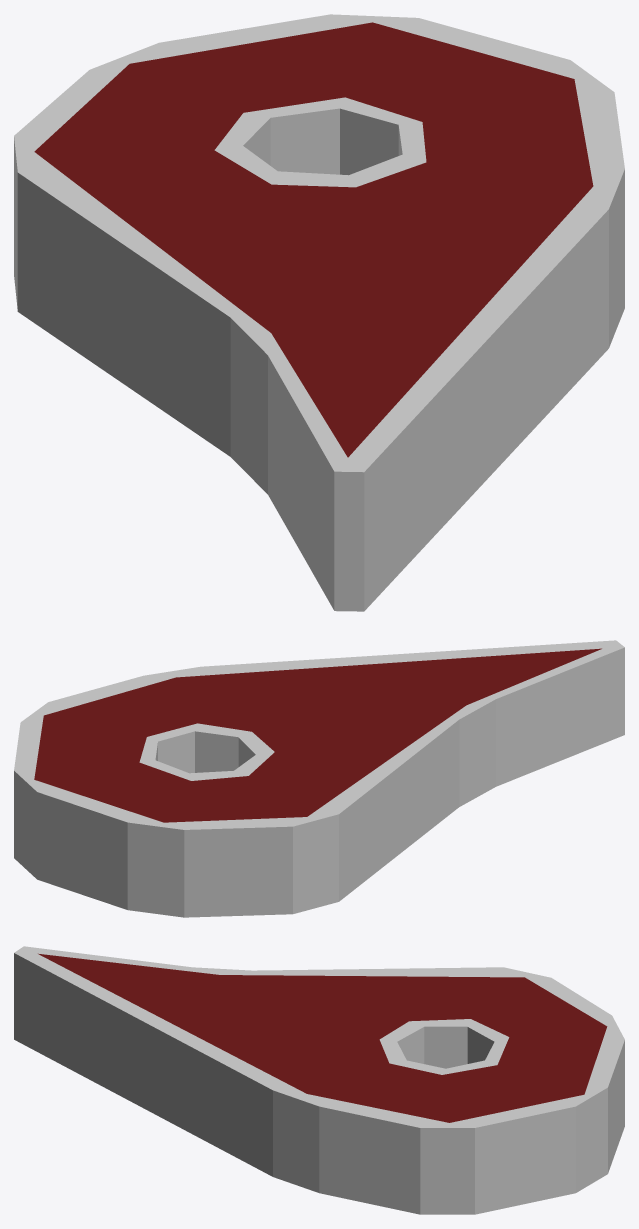
Rendered from Meat02.fbx.
3 views of the same model, one above another, from view 1: azimuth 30°, elevation 25°; view 2: azimuth 150°, elevation 25°; view 3: azimuth 270°, elevation 25° (orthographic). The views are drawn at different scales.
Parts seen in each view (by area): view 1: Cylinder004; view 2: Cylinder004; view 3: Cylinder004.
Boxes of the visible parts, x1,y1,x2,y2 form: Cylinder004: [14, 14, 624, 611]; Cylinder004: [14, 640, 624, 917]; Cylinder004: [14, 946, 624, 1214].
Size of the model in its own units: 22.08 by 4.91 by 31.37.
